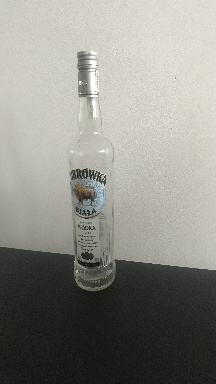butelka: (65, 48, 117, 294)
